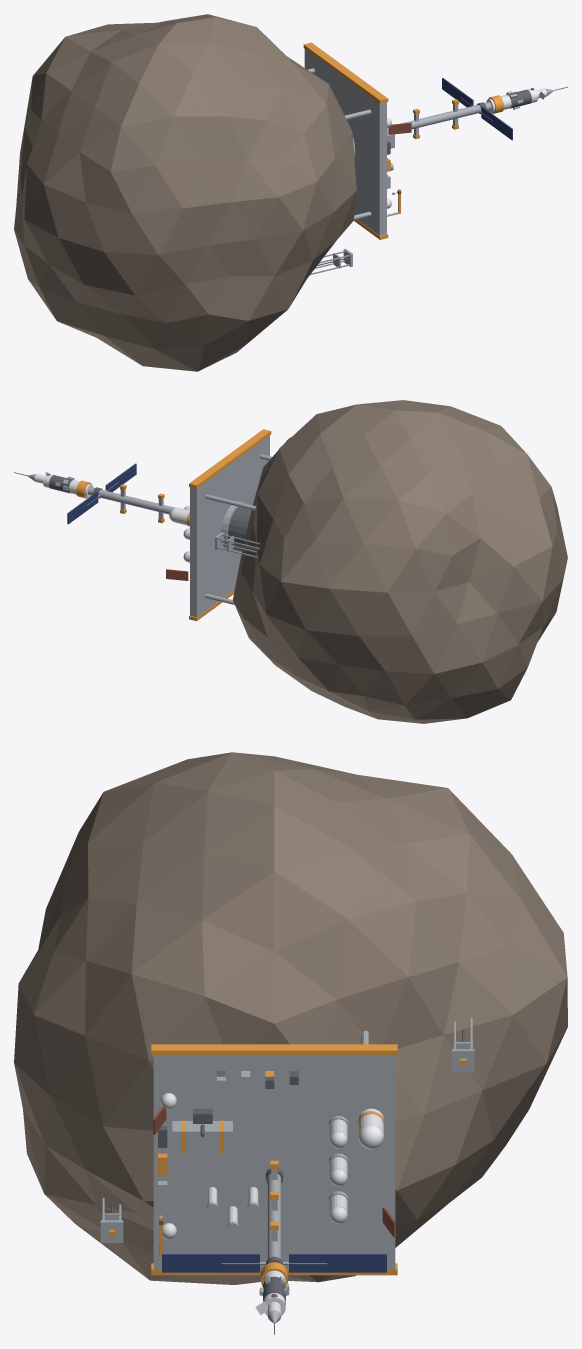
File: talos.glb
The picture shows the model from 3 angles, top to bottom: view 1: azimuth 30°, elevation 25°; view 2: azimuth 150°, elevation 25°; view 3: azimuth 270°, elevation 25°; orthographic projection. The views are drawn at different scales.
Parts seen in each view (by area): view 1: talos_rock, talos_deck, talos_deck_rim_0, talos_spine; view 2: talos_rock, talos_deck, talos_deck_rim_0, talos_spine, talos_pedestal; view 3: talos_rock, talos_deck, talos_deck_rim_0, talos_solar_0, talos_solar_1, talos_proc_block, talos_spine, talos_deck_rim_1.
Part boxes in pixels (x1,y1,x2,y2): talos_rock: (14, 14, 356, 371); talos_deck: (304, 49, 386, 235); talos_deck_rim_0: (303, 42, 388, 103); talos_spine: (387, 102, 491, 129); talos_rock: (233, 400, 567, 723); talos_deck: (190, 435, 269, 617); talos_deck_rim_0: (189, 429, 271, 488); talos_spine: (88, 487, 174, 514); talos_pedestal: (228, 507, 251, 551); talos_rock: (14, 752, 567, 1284); talos_deck: (153, 1056, 395, 1269); talos_deck_rim_0: (151, 1044, 397, 1055); talos_solar_0: (289, 1254, 386, 1272); talos_solar_1: (162, 1254, 259, 1272); talos_proc_block: (172, 1121, 232, 1153); talos_spine: (267, 1174, 281, 1259); talos_deck_rim_1: (151, 1263, 397, 1275).
Size of the model in its own units: 1337 by 754 by 733.
